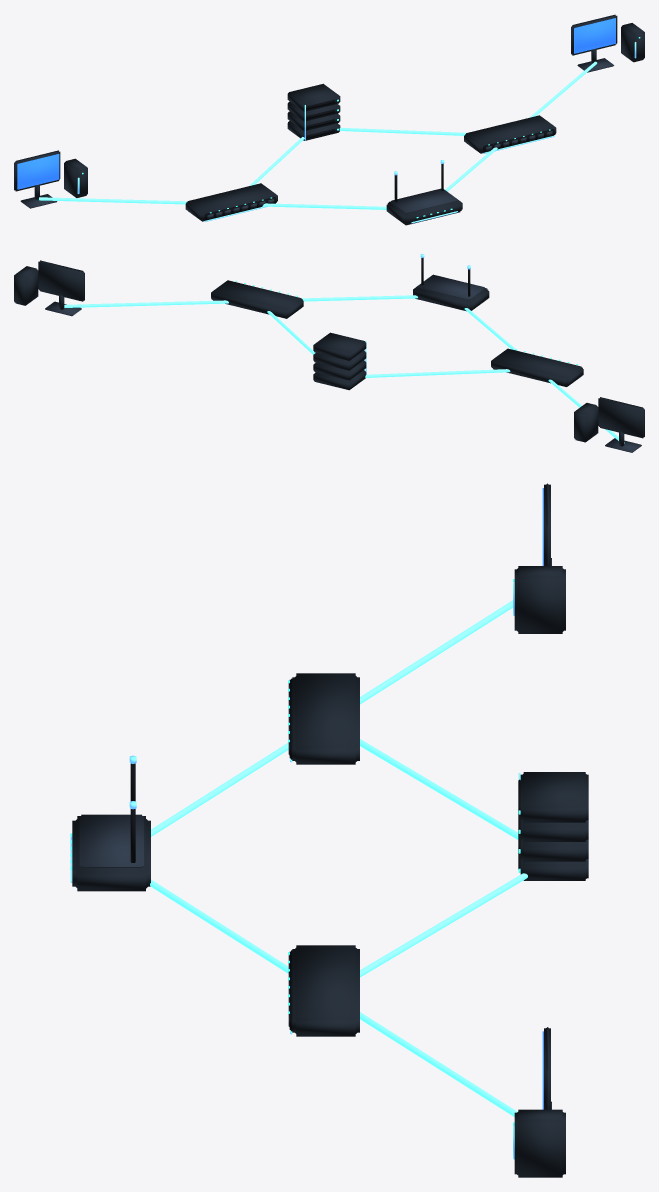
The model's file is network.glb.
The picture shows the model from 3 angles, top to bottom: view 1: azimuth 30°, elevation 25°; view 2: azimuth 150°, elevation 25°; view 3: azimuth 270°, elevation 25°; orthographic projection. The views are drawn at different scales.
Visible parts, largest first — view 1: Switch0_body, Switch1_body, PC0_screen, PC3_screen, Server0_unit3, Router0_body, Router0_cap, PC3_tower, PC0_tower, cable_PC0_Switch0, cable_Switch1_Server0, cable_Switch0_Router0 (+7 smaller); view 2: Switch0_body, Switch1_body, PC3_monitor, PC0_monitor, Server0_unit3, Router0_body, Router0_cap, PC3_tower, PC0_tower, cable_Switch1_PC3, cable_Switch0_Server0, Server0_unit1 (+3 smaller); view 3: Switch0_body, Switch1_body, PC3_tower, PC0_tower, Server0_unit3, Router0_cap, Router0_body, Server0_unit1, Server0_unit2, Server0_unit0, cable_Switch1_Server0, cable_Switch0_Server0 (+4 smaller).
Part boxes in pixels (box(x1,y1,x2,y2)): Switch0_body: box(185, 183, 277, 221); Switch1_body: box(464, 115, 556, 153); PC0_screen: box(17, 154, 59, 189); PC3_screen: box(574, 18, 615, 53); Server0_unit3: box(287, 83, 340, 111); Router0_body: box(386, 200, 462, 225); Router0_cap: box(391, 188, 457, 213); PC3_tower: box(621, 23, 644, 62); PC0_tower: box(64, 158, 87, 197); cable_PC0_Switch0: box(39, 197, 187, 204); cable_Switch1_Server0: box(339, 127, 466, 135); cable_Switch0_Router0: box(262, 203, 386, 209); Switch0_body: box(491, 348, 583, 386); Switch1_body: box(211, 280, 303, 318); PC3_monitor: box(38, 260, 84, 301); PC0_monitor: box(598, 397, 644, 438); Server0_unit3: box(313, 332, 366, 360); Router0_body: box(413, 286, 489, 311); Router0_cap: box(417, 274, 485, 299); PC3_tower: box(14, 266, 38, 305); PC0_tower: box(574, 403, 598, 442); cable_Switch1_PC3: box(64, 300, 228, 307); cable_Switch0_Server0: box(365, 369, 510, 377); Server0_unit1: box(313, 360, 366, 380); Switch0_body: box(292, 673, 359, 764); Switch1_body: box(292, 945, 359, 1036); PC3_tower: box(514, 1109, 565, 1177); PC0_tower: box(514, 566, 565, 633); Server0_unit3: box(520, 772, 588, 822); Router0_cap: box(79, 814, 143, 867); Router0_body: box(72, 816, 150, 891); Server0_unit1: box(520, 839, 588, 861); Server0_unit2: box(520, 820, 588, 841); Server0_unit0: box(520, 859, 588, 880); cable_Switch1_Server0: box(360, 873, 527, 977); cable_Switch0_Server0: box(360, 739, 518, 839).
Size of what is drawn, in the model's own units: 20.16 by 1.39 by 7.26.
